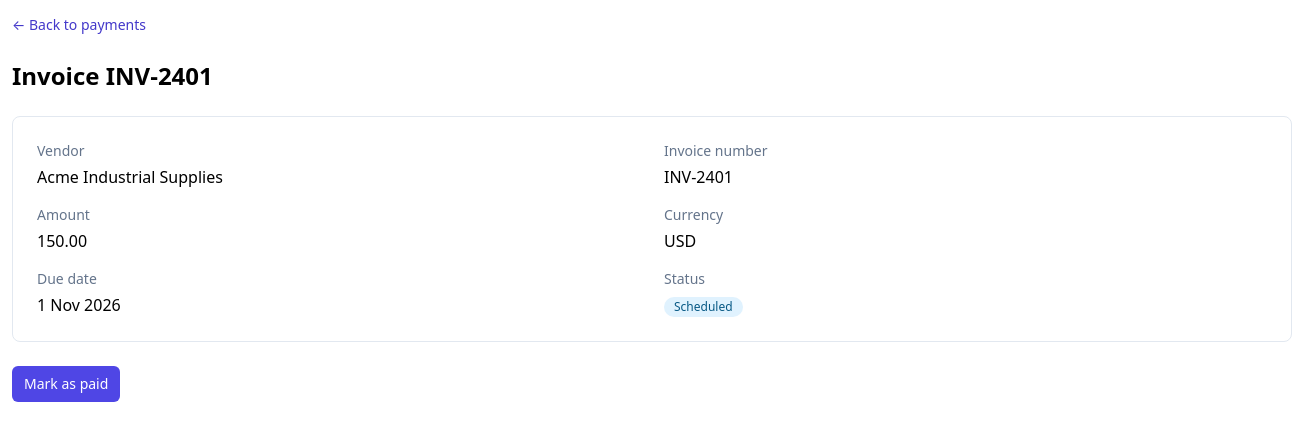
Test: PaymentDetailPage › marks a scheduled payment as paid
Click the button "Mark as paid" at (66, 384), box [12,366,120,402]
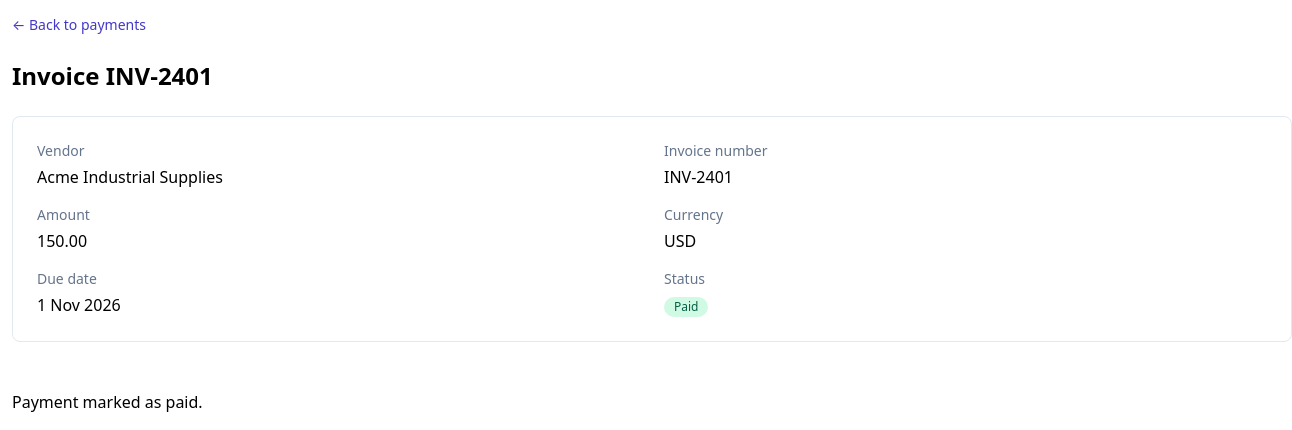
Now the text "Payment marked as paid." is shown, box [12,391,203,413]
Now the text "Paid" is shown, box [664,297,708,317]
Now the button "Mark as paid" is gone
